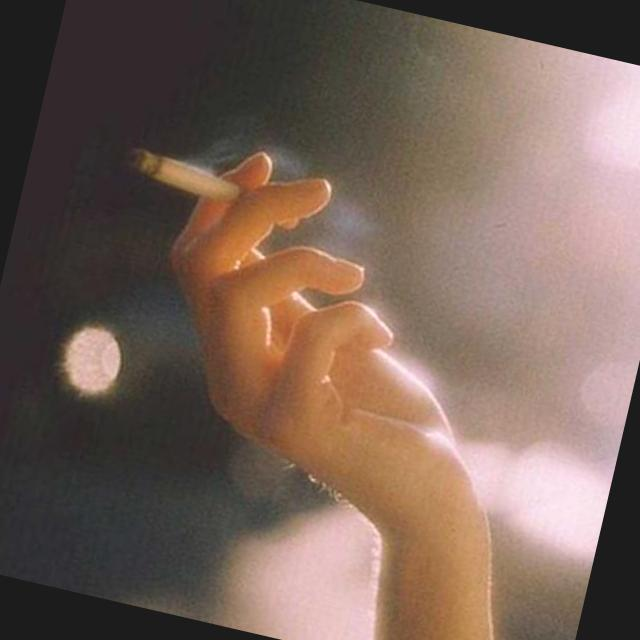smoke: (120, 138, 240, 204)
